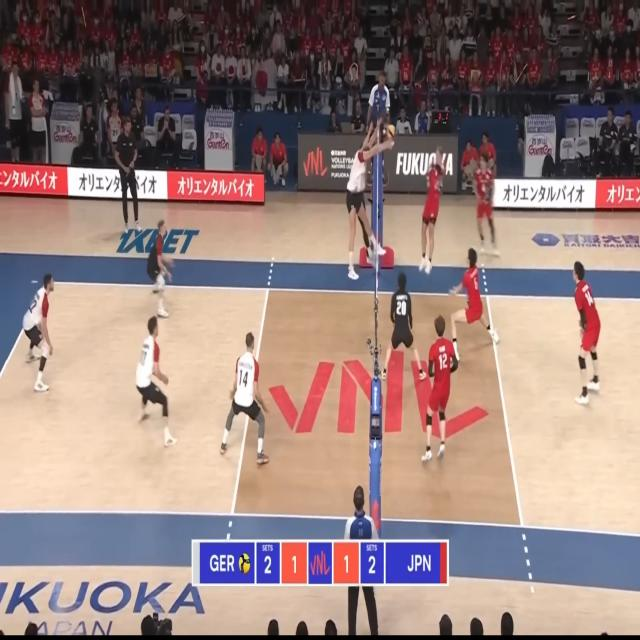ball: (387, 124, 395, 140)
